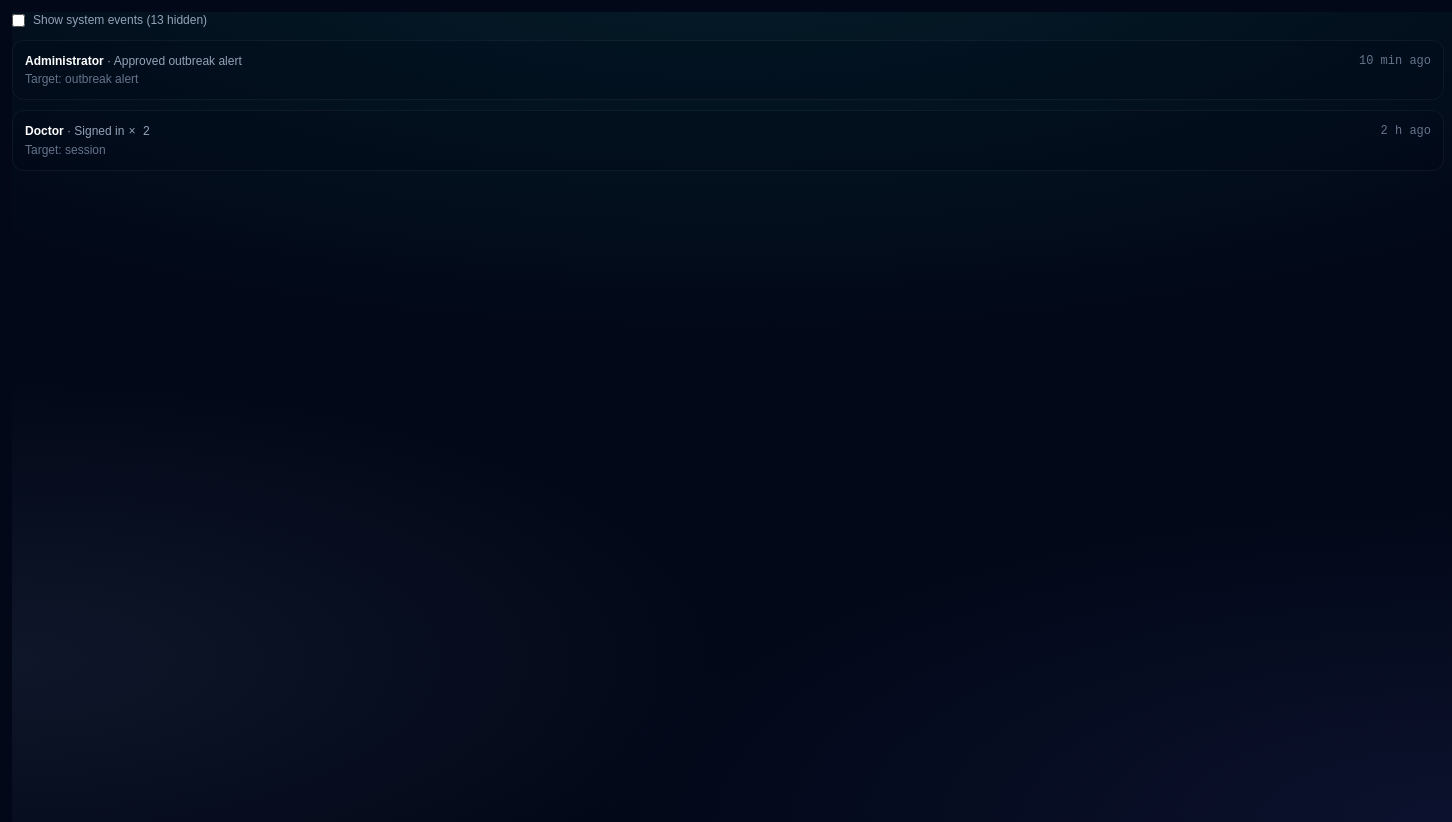
Test: audit feed presentation (item 2) › panel renders the toggle and grouped rows
The image size is (1452, 822).
Expected: the number of elements with test id "audit-row" is 2, [12,40,1444,100]; [12,110,1444,171]
Expected: the text "Show system events (13 hidden)" is shown, [12,13,207,27]
Click the checkbox labelled "Show system events": (18, 20) [12,14,25,26]
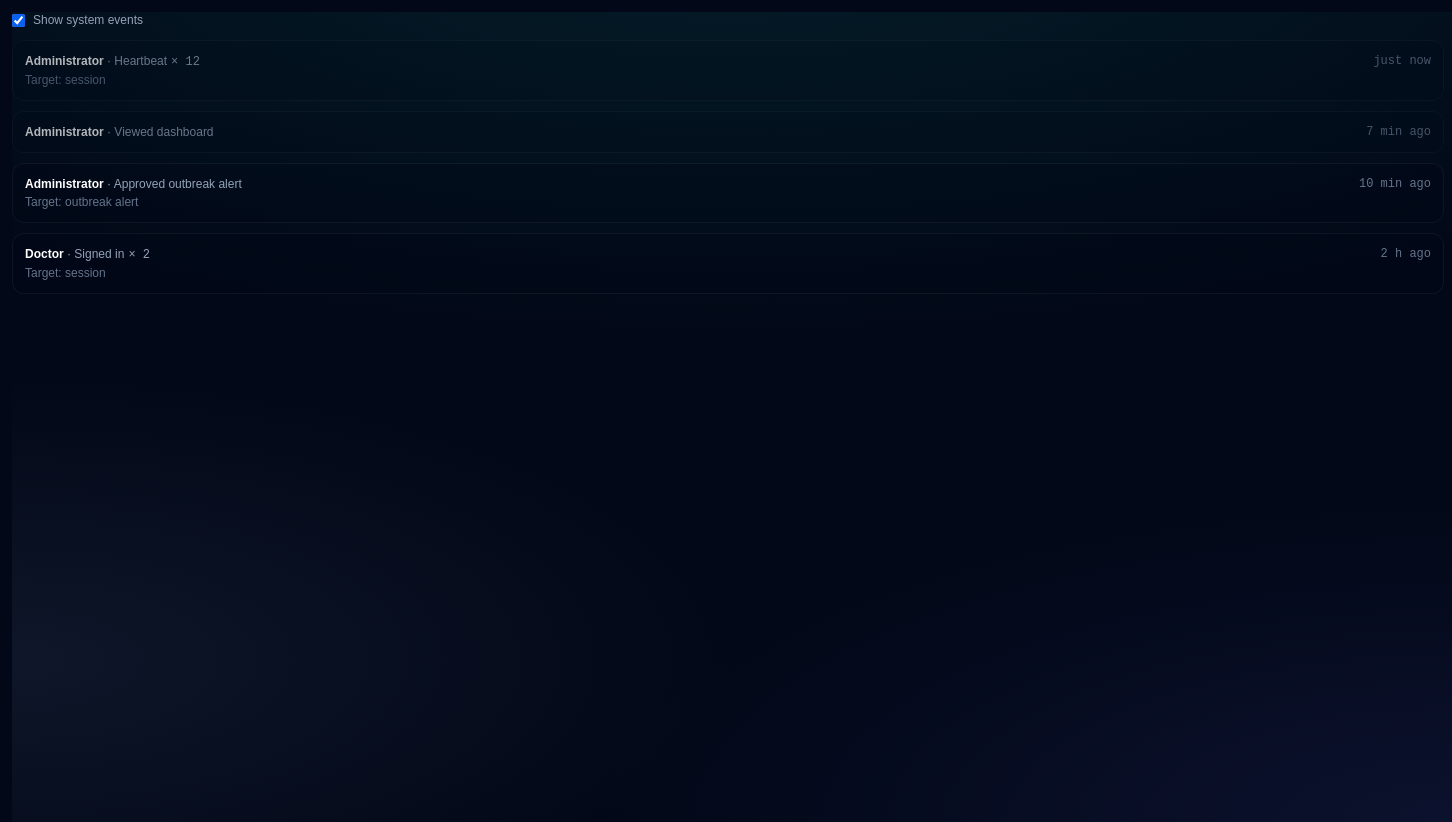
Expected: the number of elements with test id "audit-row" is 4, [12,40,1444,101]; [12,111,1444,153]; [12,163,1444,223]; [12,233,1444,294]
Expected: the text with test id "audit-count" reads "× 12", [171,55,200,69]
